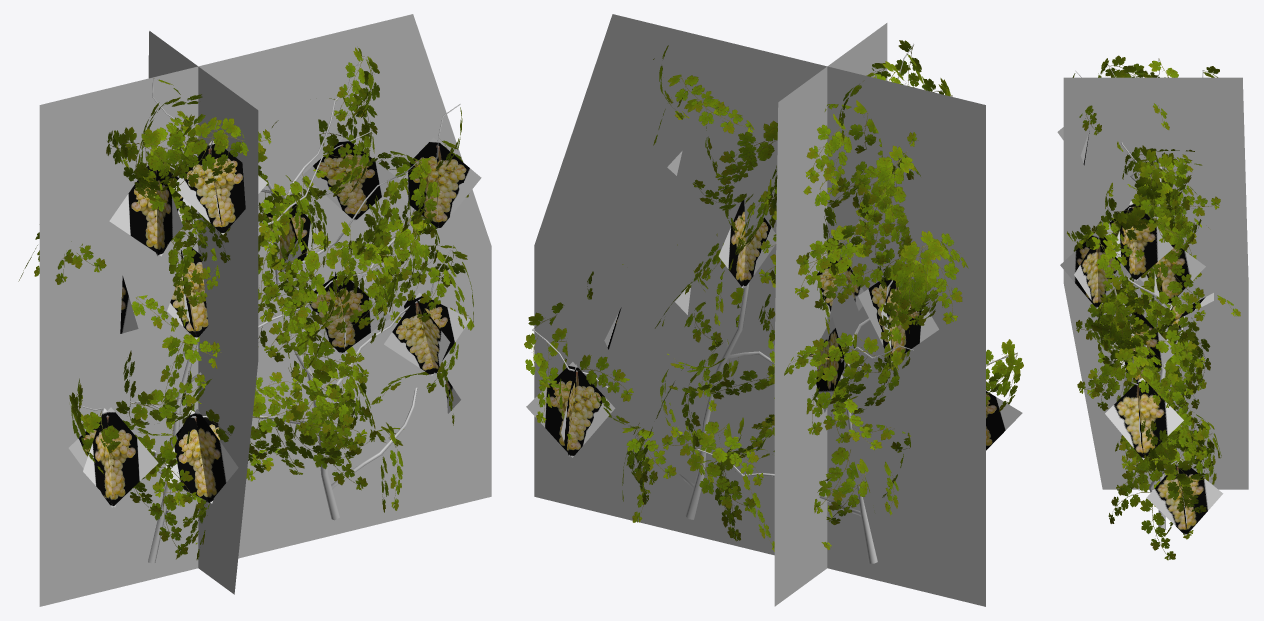
The model's file is Grape_white1.fbx.
3 renders of one model, left to right at view 1: azimuth 30°, elevation 25°; view 2: azimuth 150°, elevation 25°; view 3: azimuth 270°, elevation 25°, orthographic. The views are drawn at different scales.
Parts seen in each view (by area): view 1: Billboard, LOD0; view 2: Billboard, LOD0; view 3: Billboard, LOD0.
Boxes of the visible parts, x1=… form: Billboard: x1=39, y1=14, x2=491, y2=606; LOD0: x1=18, y1=47, x2=481, y2=563; Billboard: x1=534, y1=14, x2=985, y2=606; LOD0: x1=524, y1=40, x2=1023, y2=563; Billboard: x1=1063, y1=77, x2=1248, y2=489; LOD0: x1=1057, y1=55, x2=1240, y2=560.
Size of what is drawn, in the model's own units: 231 by 245 by 102.
